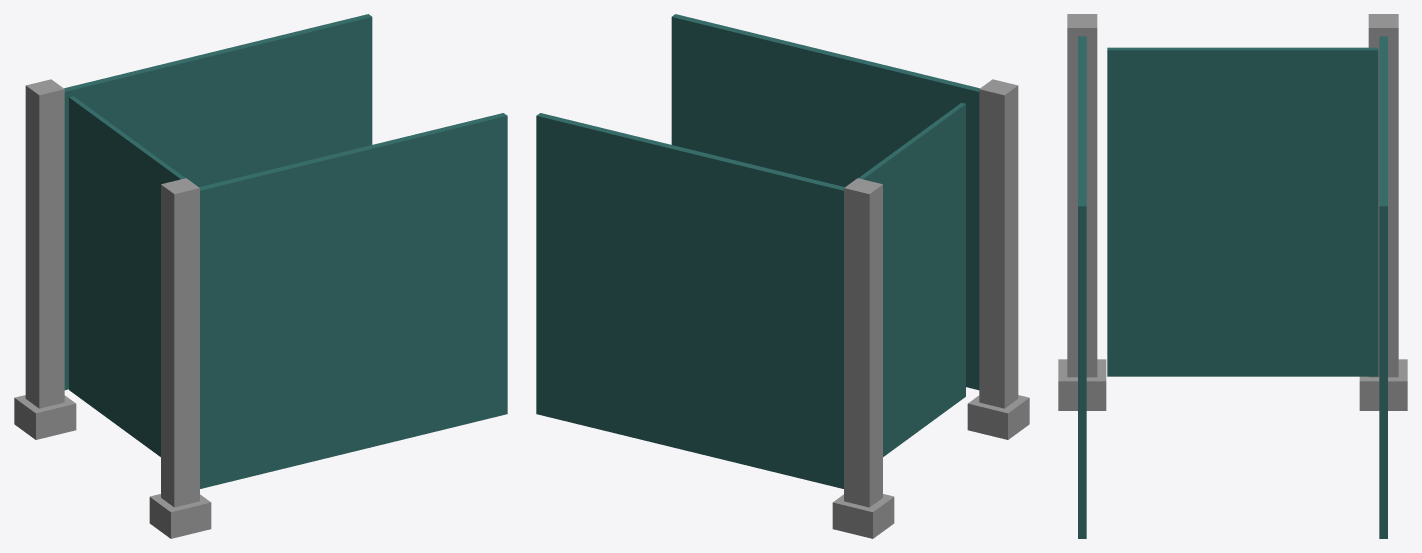
Rendered from kamar_air.gltf.
3 views of the same model, side by side, from view 1: azimuth 30°, elevation 25°; view 2: azimuth 150°, elevation 25°; view 3: azimuth 270°, elevation 25° (orthographic). The views are drawn at different scales.
Parts seen in each view (by area): view 1: banheiroPublico.001_plastico_0, banheiroPublico.001_metal.001_0; view 2: banheiroPublico.001_plastico_0, banheiroPublico.001_metal.001_0; view 3: banheiroPublico.001_plastico_0, banheiroPublico.001_metal.001_0.
Boxes of the visible parts, x1,y1,x2,y2 form: banheiroPublico.001_plastico_0: (64,14,507,488); banheiroPublico.001_metal.001_0: (14,79,211,538); banheiroPublico.001_plastico_0: (536,14,979,488); banheiroPublico.001_metal.001_0: (832,79,1029,538); banheiroPublico.001_plastico_0: (1078,36,1387,538); banheiroPublico.001_metal.001_0: (1058,14,1407,410).
Size of the model in its own units: 2.43 by 2.29 by 1.91.
